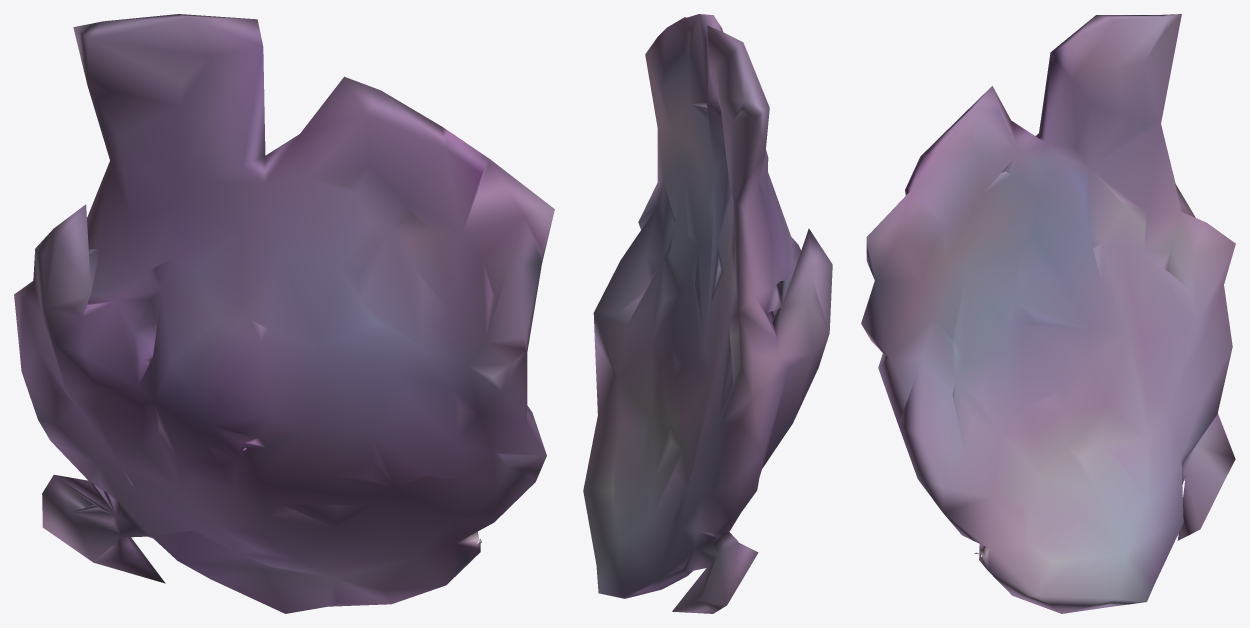
Rendered from nota_si.glb.
3 views of the same model, side by side, from view 1: azimuth 30°, elevation 25°; view 2: azimuth 150°, elevation 25°; view 3: azimuth 270°, elevation 25° (orthographic). The views are drawn at different scales.
Size of the model in its own units: 0.6151 by 0.9918 by 0.6225.
